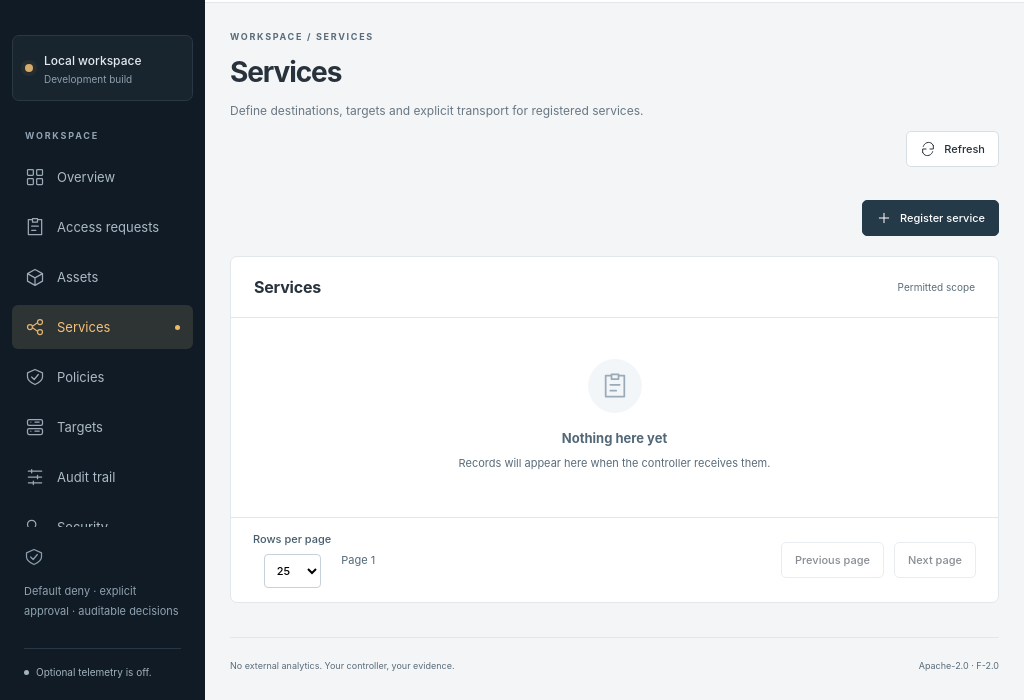
Test: service creation cannot invent a target when target enrollment is unavailable
This screenshot has width=1024, height=700.
Step 1. Click the button "Register service" → (930, 218), box x1=862 y1=200 x2=999 y2=236
(page scrolled)
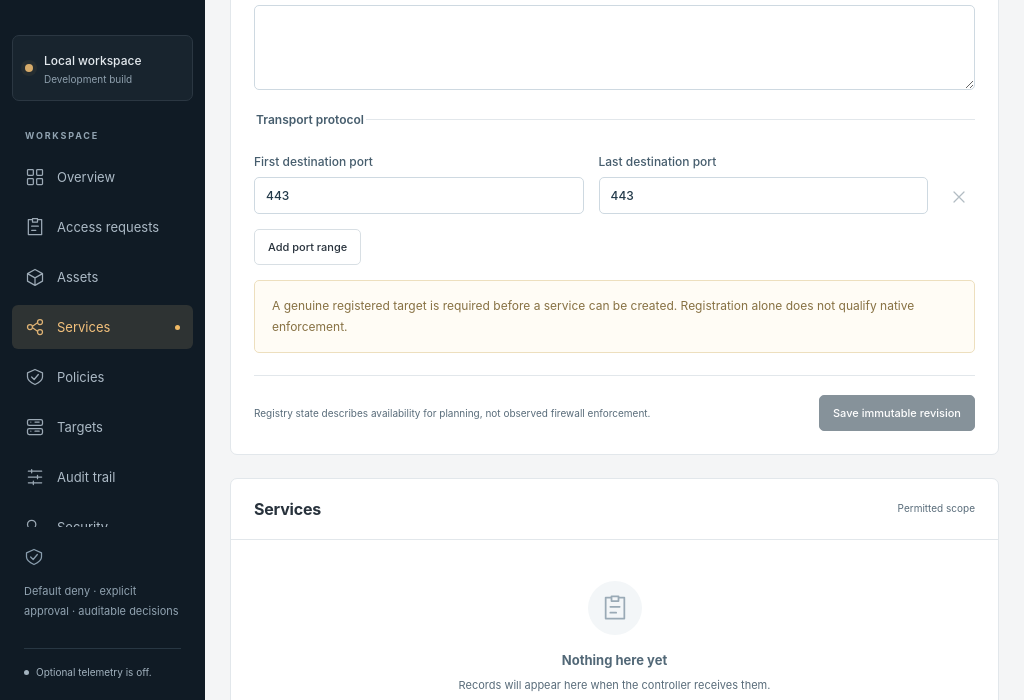
Expected: the button "Save immutable revision" is disabled, x1=819 y1=395 x2=975 y2=431
Expected: the text "A genuine registered target is required" is shown, x1=272 y1=298 x2=914 y2=334
